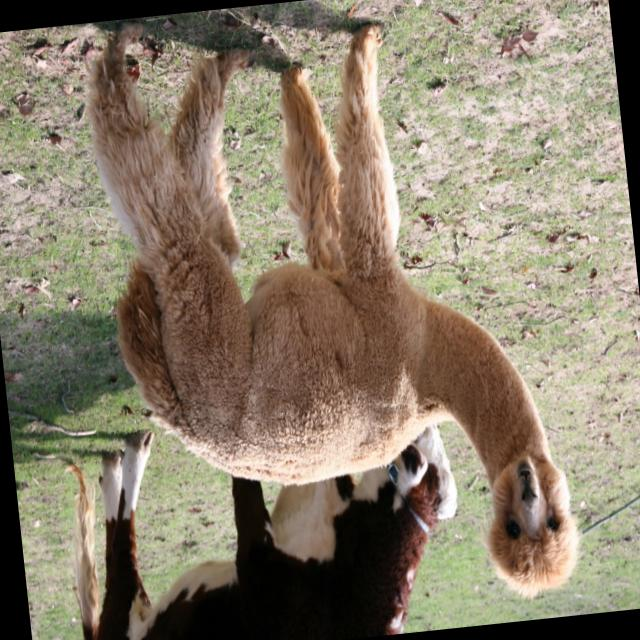alpaca: (78, 0, 584, 637)
